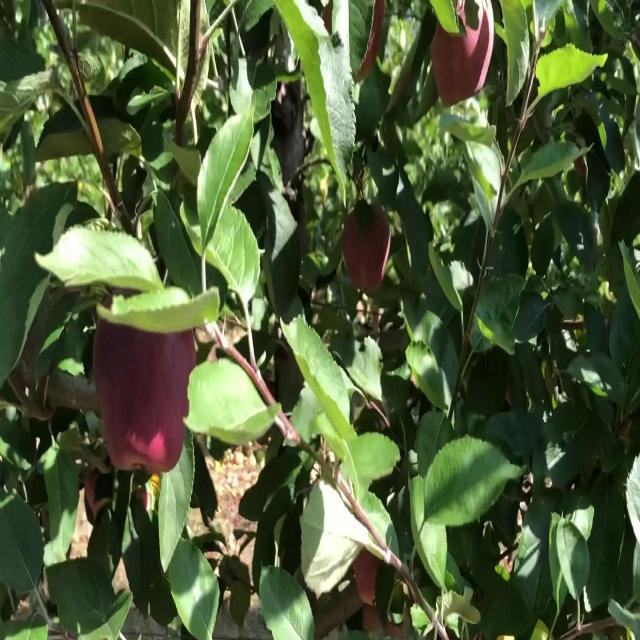apple: (431, 0, 494, 104), (432, 0, 494, 104), (342, 200, 390, 291), (430, 22, 470, 104), (349, 0, 385, 80), (145, 411, 185, 473), (85, 467, 112, 524), (352, 549, 379, 604), (136, 473, 160, 513), (362, 604, 384, 633)
